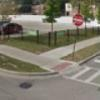cars: (0, 21, 23, 35)
